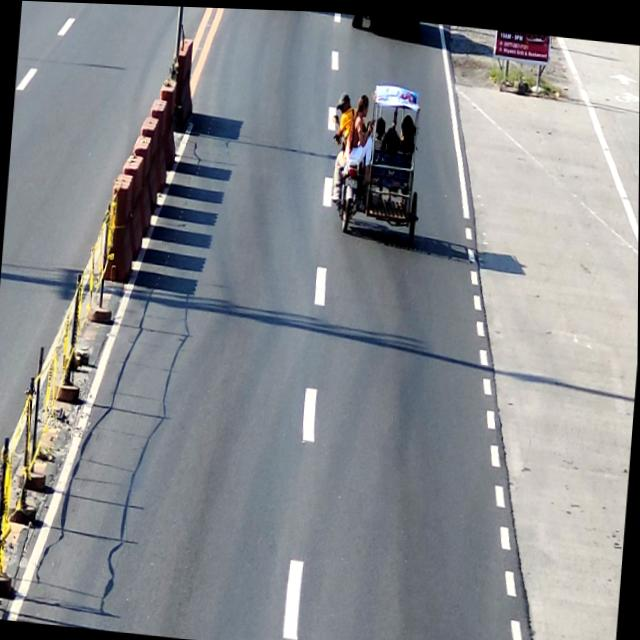License-Plate: (344, 174, 357, 186)
Tricycle: (324, 75, 428, 243)
